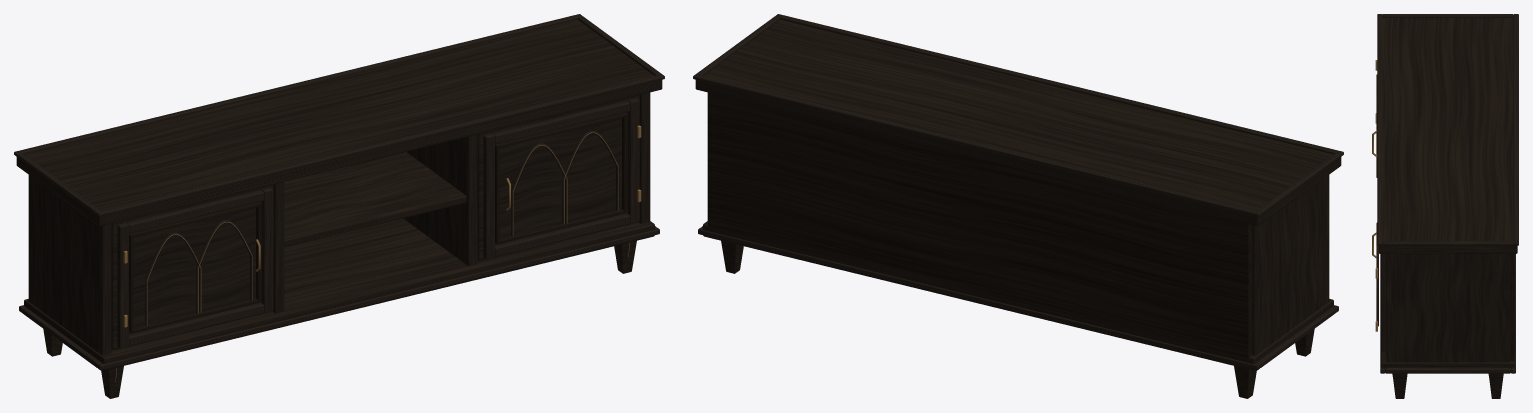
File: gotico_rack_tv.glb
3 views of the same model, side by side, from view 1: azimuth 30°, elevation 25°; view 2: azimuth 150°, elevation 25°; view 3: azimuth 270°, elevation 25° (orthographic). The views are drawn at different scales.
Visible parts, largest first — view 1: rack_tv; view 2: rack_tv; view 3: rack_tv.
Part boxes in pixels (left/top/right/bottom): rack_tv: left=14, top=14, right=664, bottom=398; rack_tv: left=693, top=14, right=1343, bottom=398; rack_tv: left=1372, top=14, right=1518, bottom=398.
Size of the model in its own units: 1.71 by 0.572 by 0.4614.
Materials: 4 (3 with a texture image).
